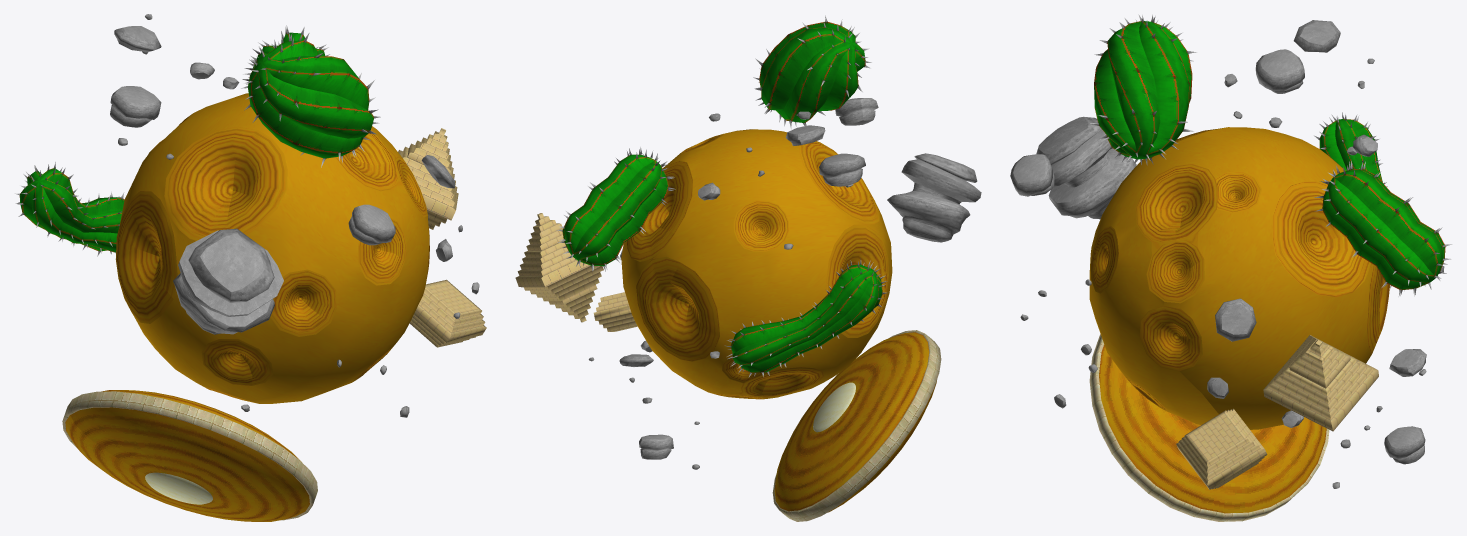
The model's file is dusty_planet.obj.
The picture shows the model from 3 angles, left to right: view 1: azimuth 30°, elevation 25°; view 2: azimuth 150°, elevation 25°; view 3: azimuth 270°, elevation 25°; orthographic projection. The views are drawn at different scales.
Visible parts, largest first — view 1: n5b9_ID100, n6b8_ID109, n3b7_ID82, n1b3_ID64, n9b1_ID136, n8b2_ID127, n4b0_ID91, n0b5_ID55, n2b4_ID73, n7b6_ID118; view 2: n5b9_ID100, n1b3_ID64, n6b8_ID109, n3b7_ID82, n9b1_ID136, n4b0_ID91, n0b5_ID55, n8b2_ID127, n2b4_ID73, n7b6_ID118; view 3: n5b9_ID100, n6b8_ID109, n1b3_ID64, n3b7_ID82, n4b0_ID91, n9b1_ID136, n8b2_ID127, n0b5_ID55, n2b4_ID73.
Part boxes in pixels (box(x1,y1,x2,y2)): n5b9_ID100: box(120, 93, 429, 403); n6b8_ID109: box(115, 114, 429, 403); n3b7_ID82: box(65, 390, 309, 521); n1b3_ID64: box(19, 32, 373, 252); n9b1_ID136: box(110, 27, 478, 417); n8b2_ID127: box(115, 14, 479, 417); n4b0_ID91: box(398, 128, 486, 347); n0b5_ID55: box(62, 391, 317, 520); n2b4_ID73: box(14, 25, 380, 256); n7b6_ID118: box(145, 472, 212, 504); n5b9_ID100: box(621, 129, 892, 398); n1b3_ID64: box(562, 21, 882, 372); n6b8_ID109: box(627, 129, 888, 399); n3b7_ID82: box(774, 332, 936, 512); n9b1_ID136: box(619, 98, 981, 459); n4b0_ID91: box(515, 213, 637, 331); n0b5_ID55: box(772, 330, 941, 521); n8b2_ID127: box(588, 98, 980, 469); n2b4_ID73: box(556, 15, 887, 377); n7b6_ID118: box(813, 382, 855, 432); n5b9_ID100: box(1089, 127, 1371, 429); n6b8_ID109: box(1090, 127, 1389, 411); n1b3_ID64: box(1094, 21, 1445, 290); n3b7_ID82: box(1099, 345, 1326, 513); n4b0_ID91: box(1176, 335, 1378, 489); n9b1_ID136: box(1010, 20, 1444, 464); n8b2_ID127: box(1013, 22, 1442, 488); n0b5_ID55: box(1089, 334, 1329, 521); n2b4_ID73: box(1089, 14, 1451, 296).
Size of the model in its own units: 56.26 by 64.29 by 51.23.
10 materials, 10 textured.
